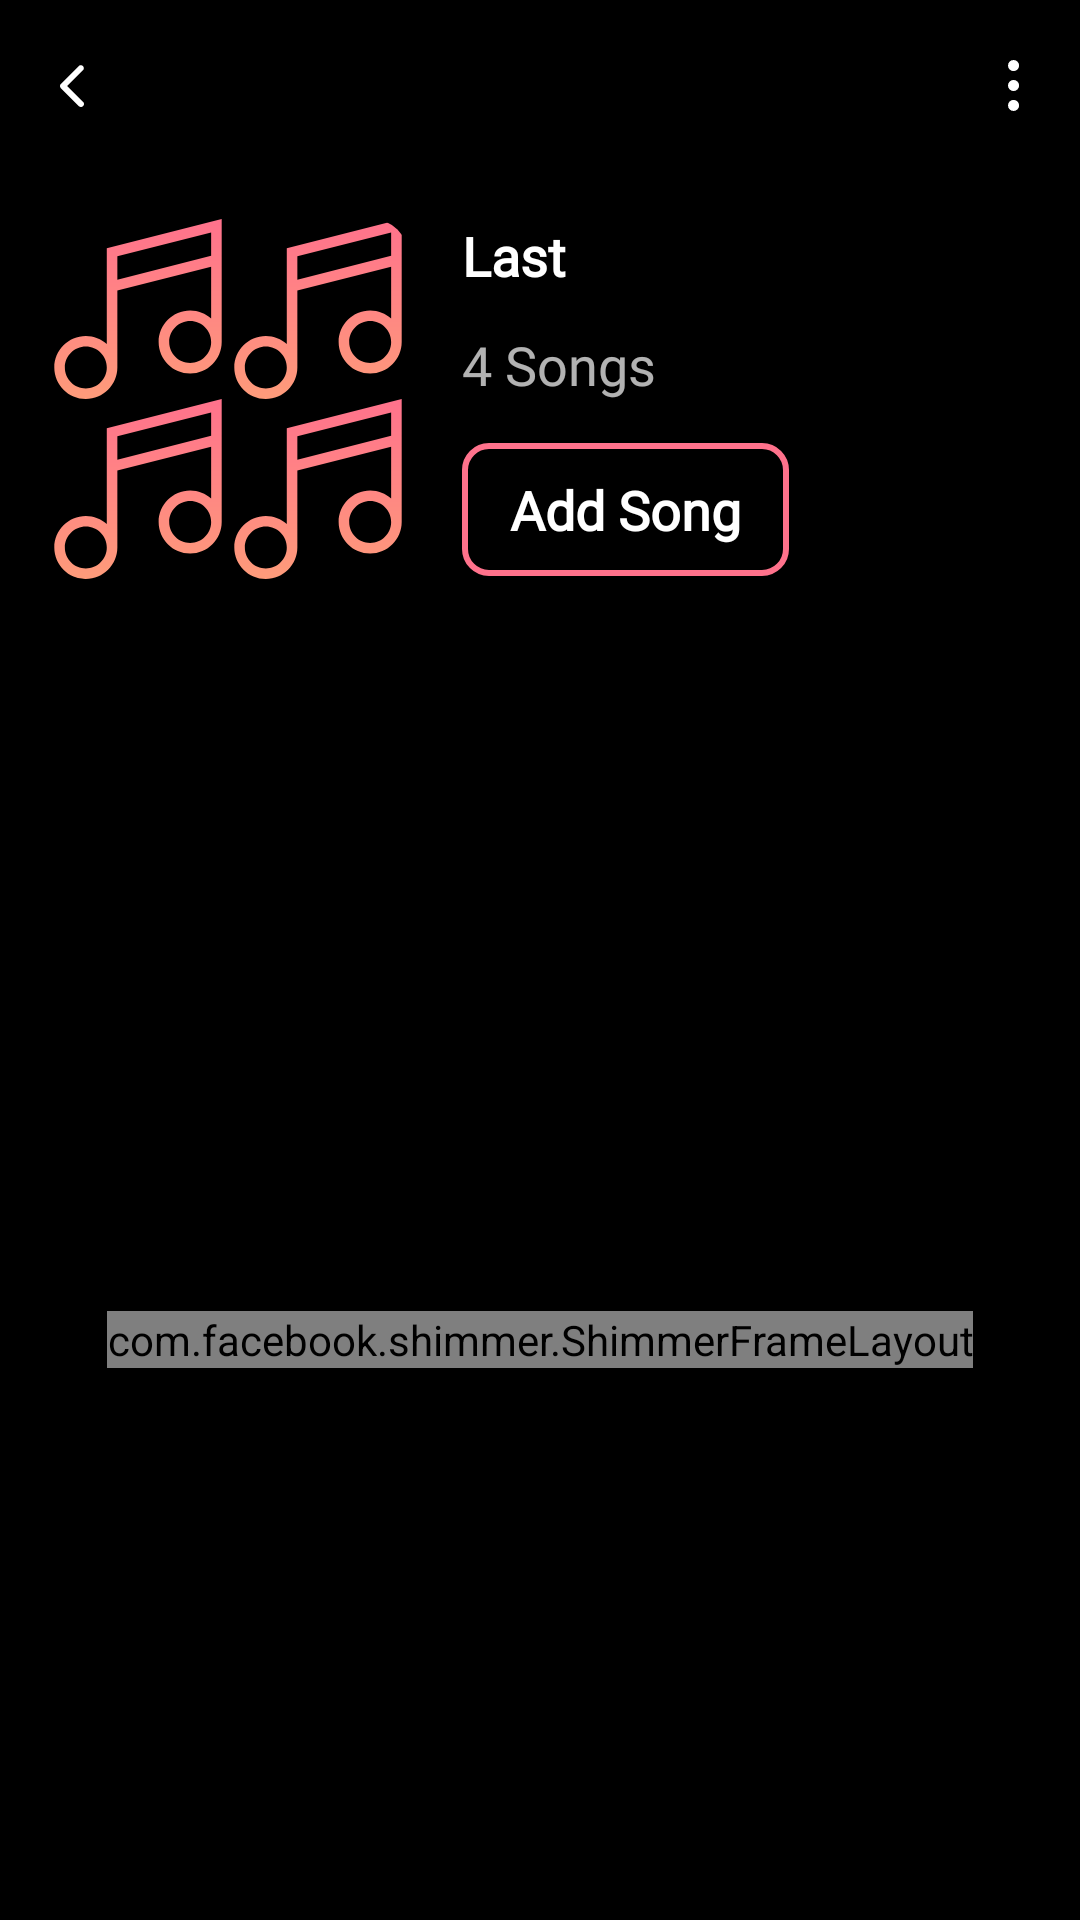

Icon click points for this 1080w x 1920h phone screenshot, format (x,y):
playlist: (138,309), (318,310), (138,489), (318,489)
previous pager: (72,86)
song option: (1013,85)
